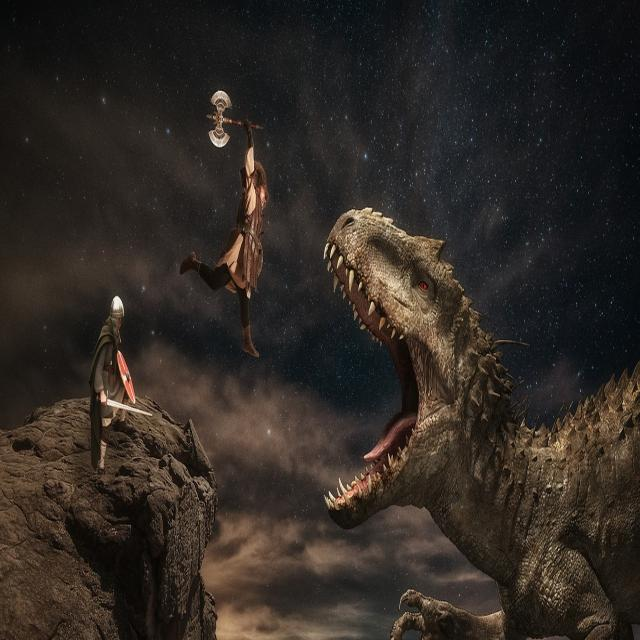Axe: (208, 90, 262, 147), (106, 399, 152, 416)
